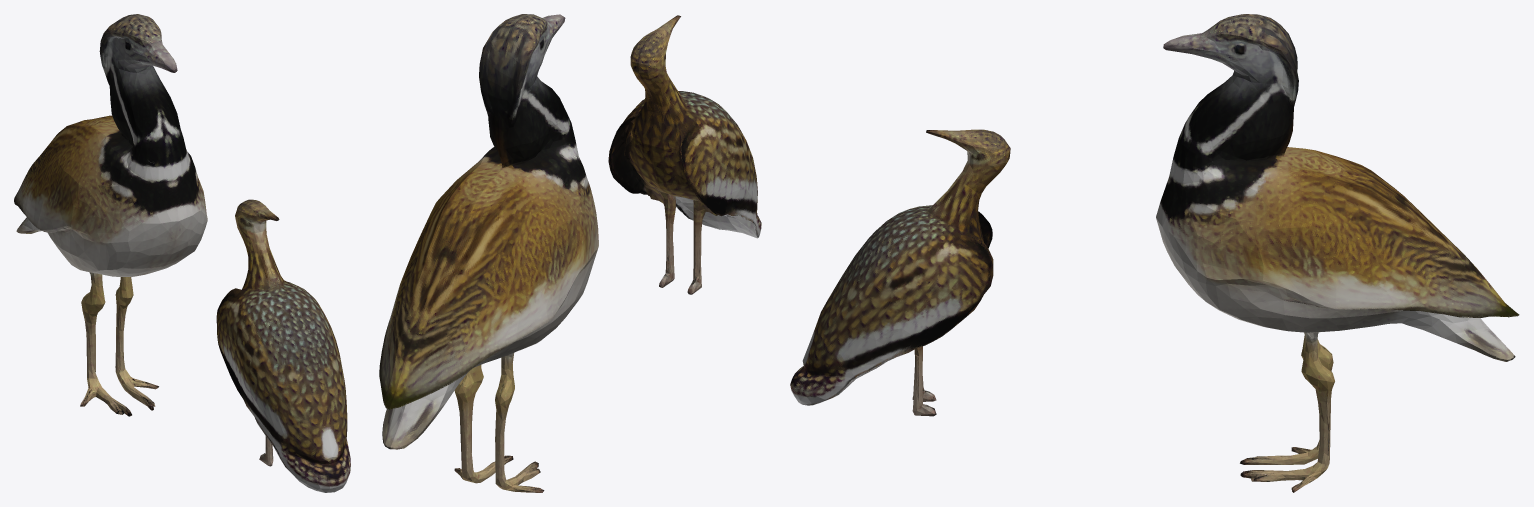
File: strepet.glb
3 views of the same model, side by side, from view 1: azimuth 30°, elevation 25°; view 2: azimuth 150°, elevation 25°; view 3: azimuth 270°, elevation 25° (orthographic). The views are drawn at different scales.
Size of the model in its own units: 23.14 by 68.69 by 99.73.
Materials: 1 (1 with a texture image).
